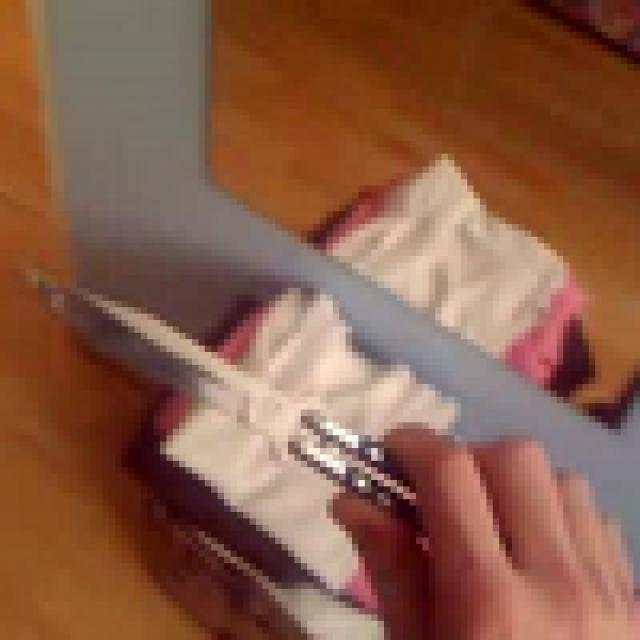knife: (31, 237, 486, 582)
